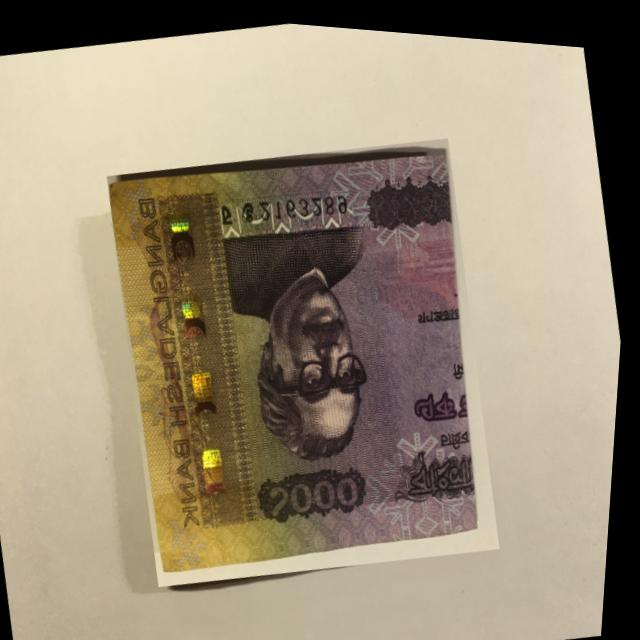Taka: (88, 109, 528, 605)
